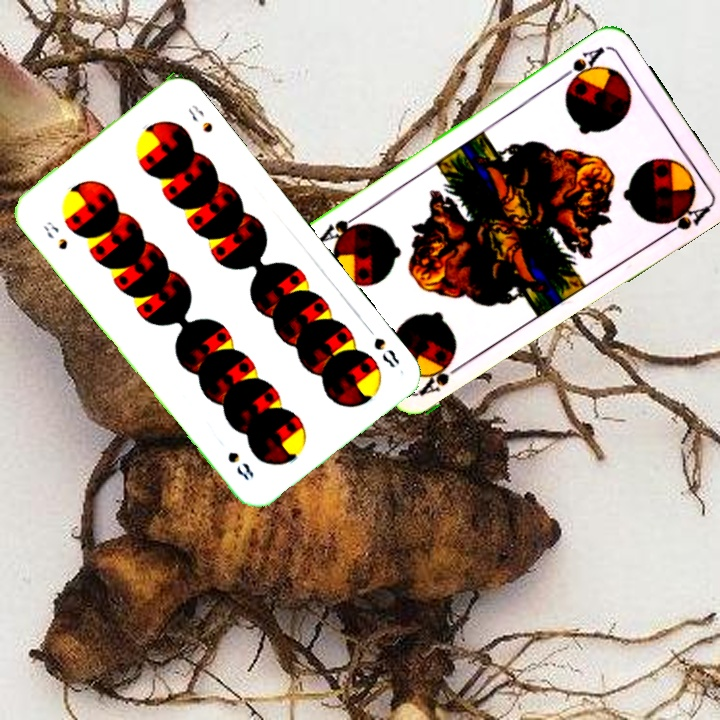S8: (361, 321, 402, 371), (39, 217, 70, 253)
SA: (556, 42, 608, 90), (416, 358, 469, 398)
